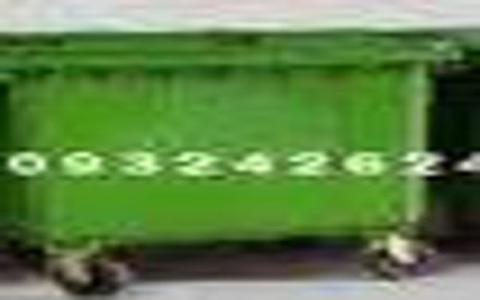Proper garbage: (3, 2, 451, 279)
